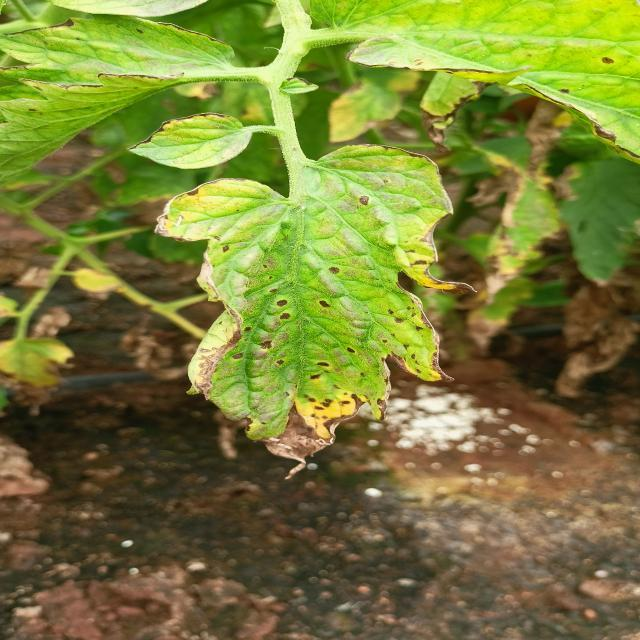Tomato mosaic virus leaf: (148, 175, 484, 484)
